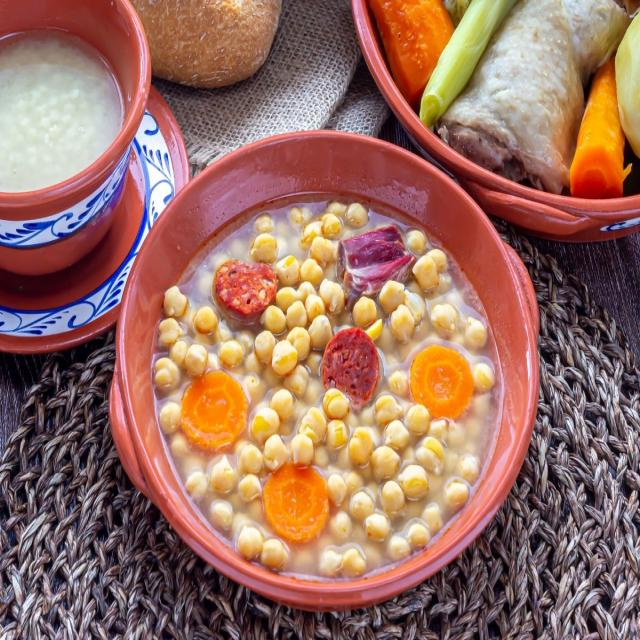garbanzos: (149, 188, 513, 587)
